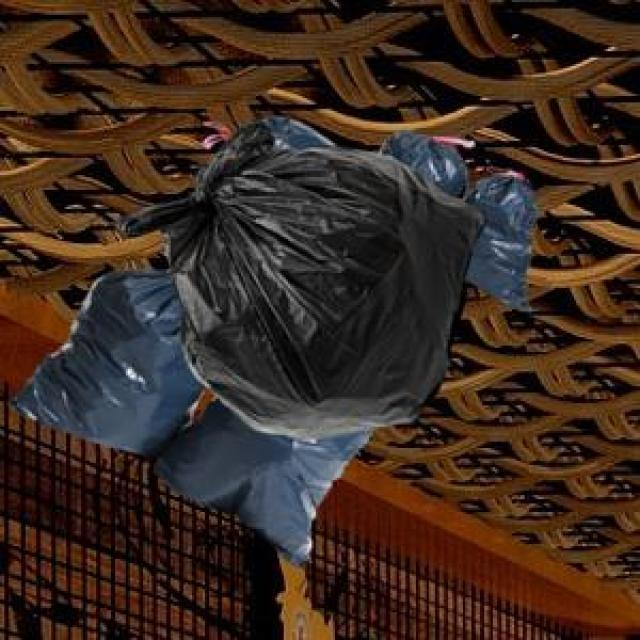waste: (18, 118, 535, 561)
